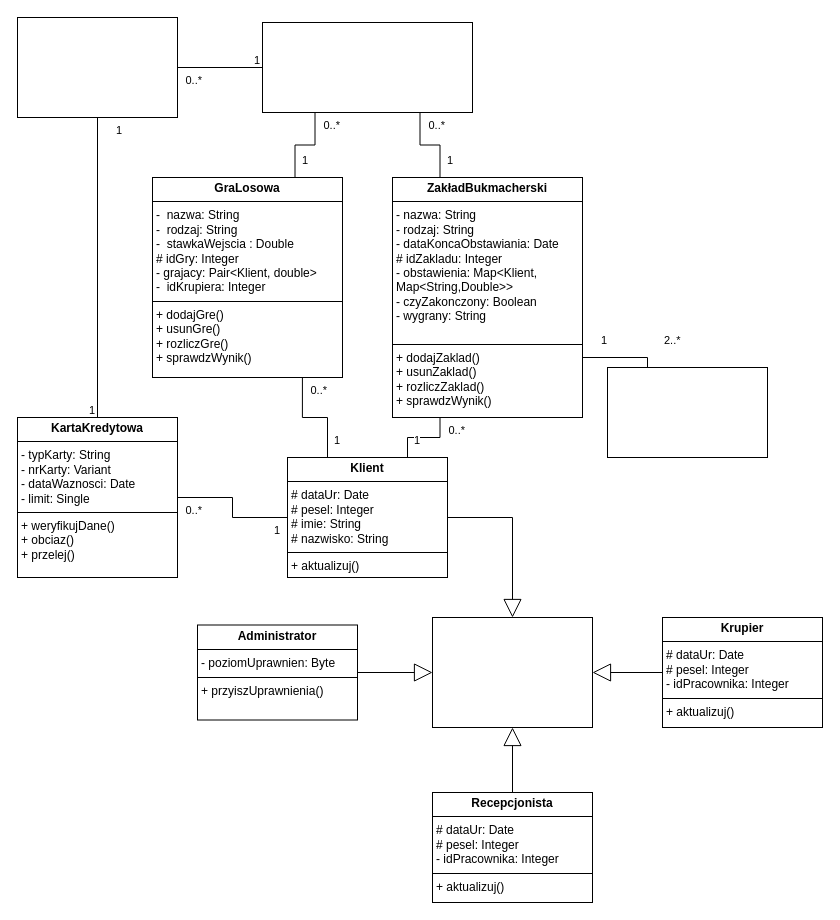
Image size: 840x920. Some labels were removed from this diagram. Each missing label, with the centre of its shape:
Kurs - nazwaZwyciezcy: String - akrualnyKurs: Double + obliczKurs(): (687,412)
Rozlicz # czyWygrana: boolean # klient: Klient + sprawdzRezultat(): (367,67)
Użytkownik # eMail: String # haslo: String - login: String + zaloguj(): (512,672)
Wyplac # nrTransakcji: Integer # dataTransakcji: Date + wyplac(): (97,67)
